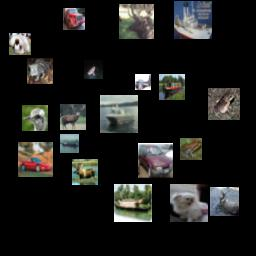airplane: (135, 74, 151, 90)
automobile: (138, 143, 173, 178), (18, 142, 53, 177)
bird: (22, 105, 48, 131)
cat: (27, 58, 53, 84)
deer: (119, 4, 154, 39), (210, 187, 239, 216), (60, 104, 86, 130), (72, 159, 98, 185)
dog: (170, 184, 208, 222), (9, 33, 31, 55)
frog: (208, 88, 240, 120), (180, 138, 202, 160), (84, 60, 103, 79)
ship: (114, 184, 152, 222), (100, 95, 138, 133), (174, 1, 212, 39), (159, 74, 185, 100), (60, 134, 79, 153)
truck: (63, 8, 85, 30)
